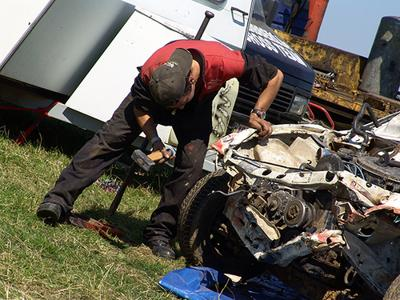person: (41, 38, 285, 258)
